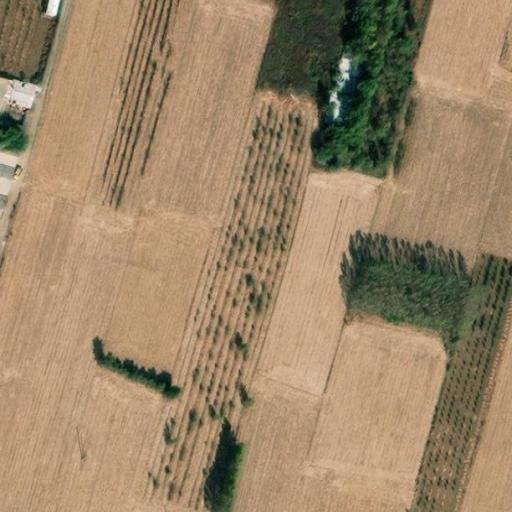building: (327, 49, 365, 124)
